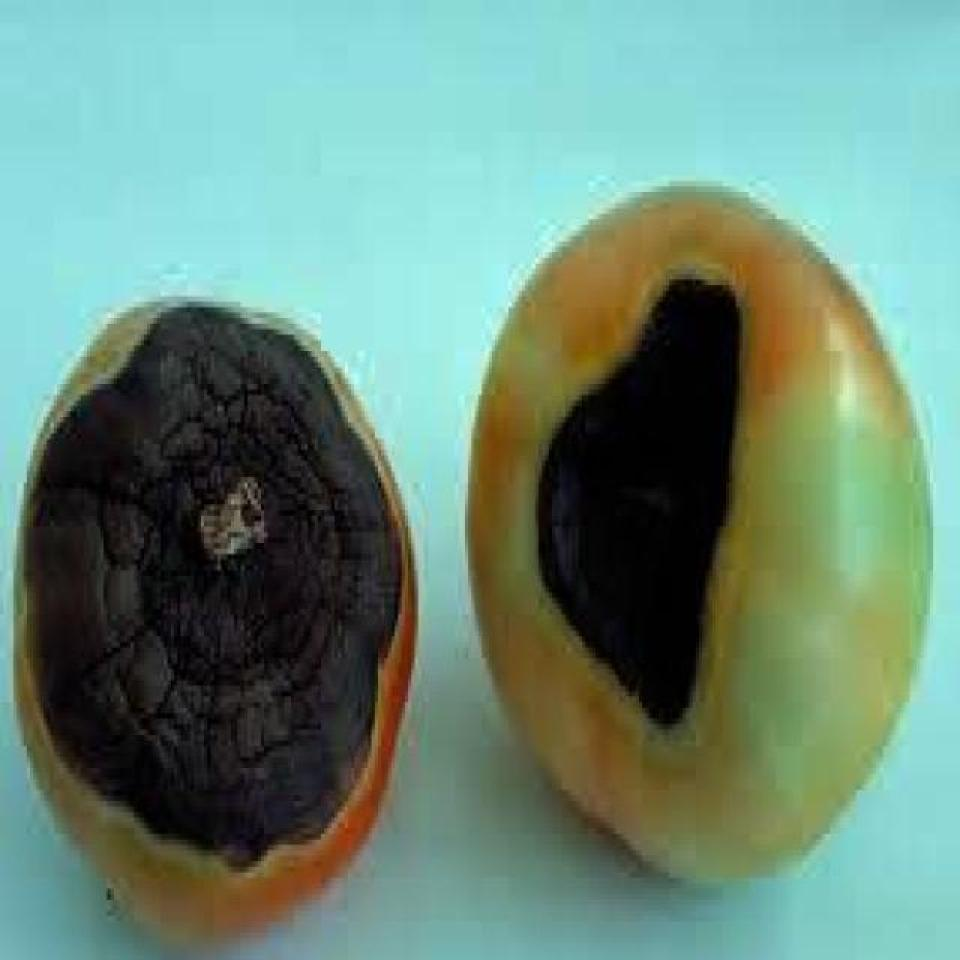Blossom_end_rot: (28, 293, 418, 864), (525, 229, 820, 774)
